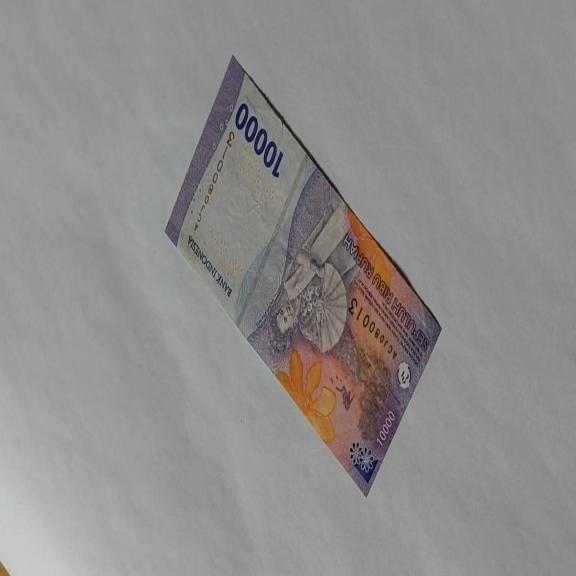Kertas: (164, 54, 442, 498), (234, 101, 284, 179)
